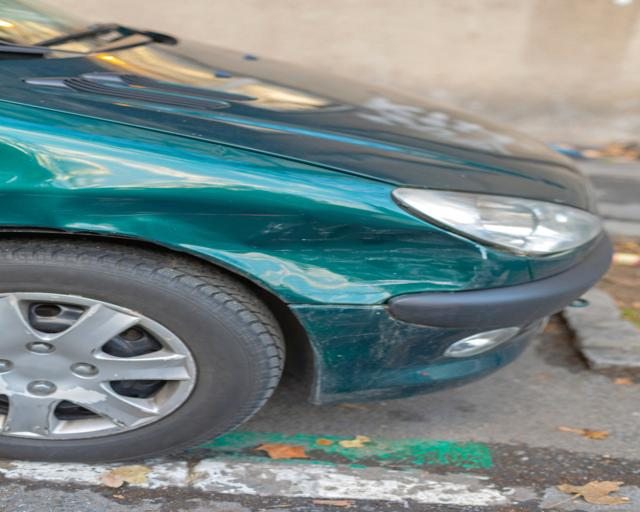dent: (58, 187, 479, 306)
